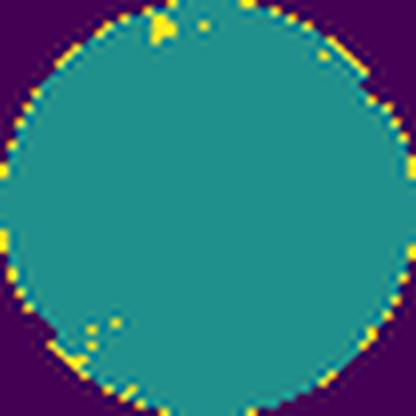Loc: (150, 13, 176, 46)
